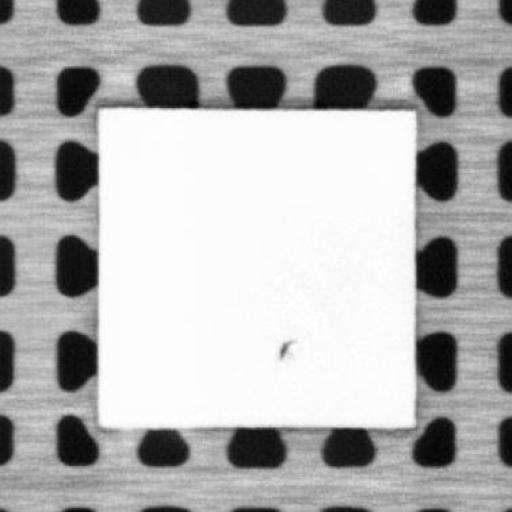DIE_INK: (276, 335, 292, 361)
